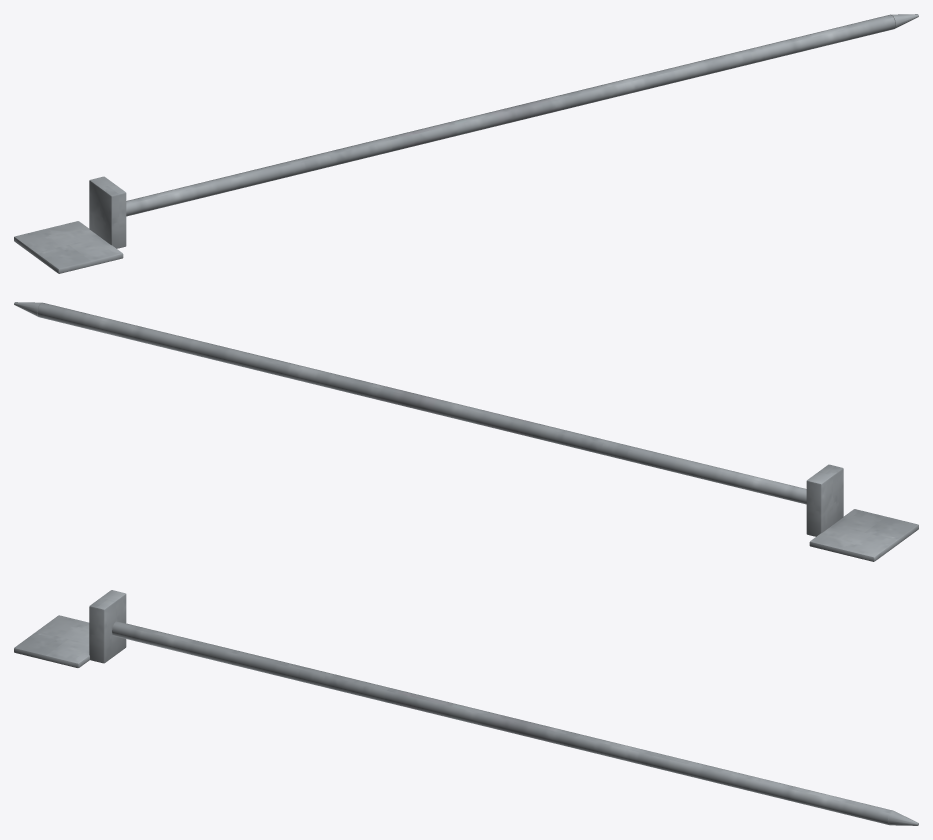
The model's file is ELE-SPD-002.glb.
The picture shows the model from 3 angles, top to bottom: view 1: azimuth 30°, elevation 25°; view 2: azimuth 150°, elevation 25°; view 3: azimuth 330°, elevation 25°; orthographic projection.
Parts seen in each view (by area): view 1: ELE-SPD-002_haste, ELE-SPD-002_base, ELE-SPD-002_dobra; view 2: ELE-SPD-002_haste, ELE-SPD-002_base, ELE-SPD-002_dobra; view 3: ELE-SPD-002_haste, ELE-SPD-002_base, ELE-SPD-002_dobra.
Boxes of the visible parts, x1=… form: ELE-SPD-002_haste: x1=126, y1=15, x2=895, y2=216; ELE-SPD-002_base: x1=14, y1=221, x2=123, y2=273; ELE-SPD-002_dobra: x1=89, y1=176, x2=126, y2=248; ELE-SPD-002_haste: x1=37, y1=303, x2=806, y2=504; ELE-SPD-002_base: x1=809, y1=509, x2=918, y2=561; ELE-SPD-002_dobra: x1=806, y1=464, x2=843, y2=536; ELE-SPD-002_haste: x1=112, y1=621, x2=893, y2=825; ELE-SPD-002_base: x1=14, y1=615, x2=89, y2=667; ELE-SPD-002_dobra: x1=89, y1=590, x2=126, y2=663.
Size of the model in its own units: 0.675 by 0.04 by 0.06.
1 material, 1 textured.
